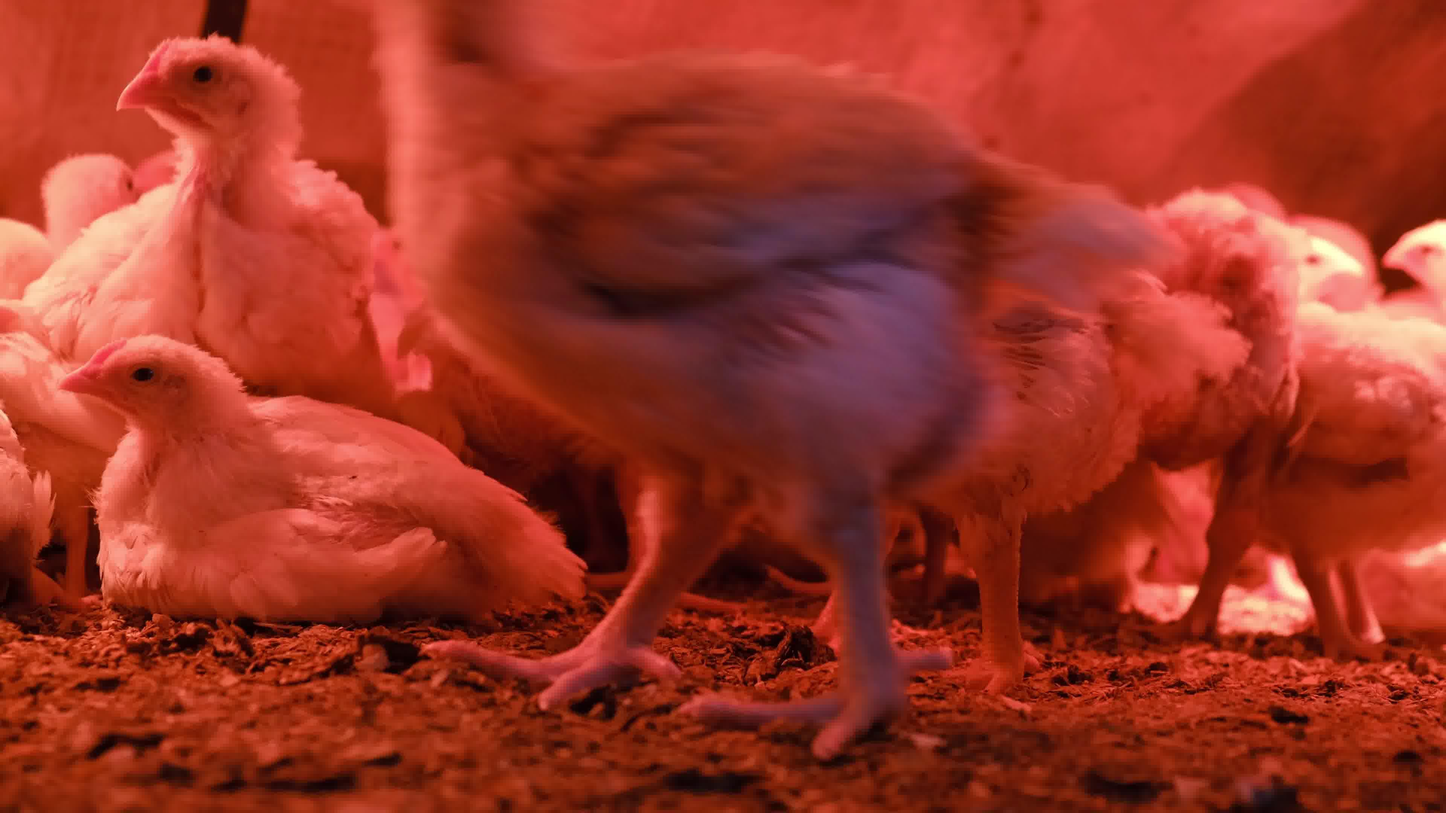AbNormal: (57, 333, 584, 617), (3, 375, 53, 607)
Normal: (366, 0, 1182, 766), (885, 263, 1251, 709), (27, 32, 405, 420), (1103, 190, 1298, 635), (1278, 309, 1446, 653), (2, 219, 105, 593), (57, 151, 142, 261), (1287, 226, 1362, 303), (1382, 219, 1446, 307)
